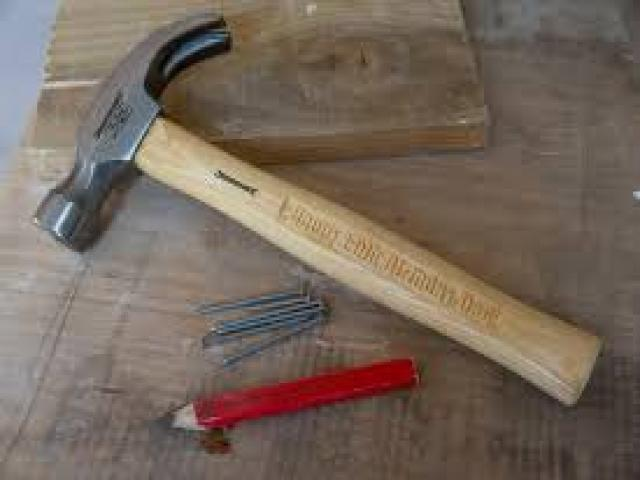Hammer: (36, 14, 599, 404)
